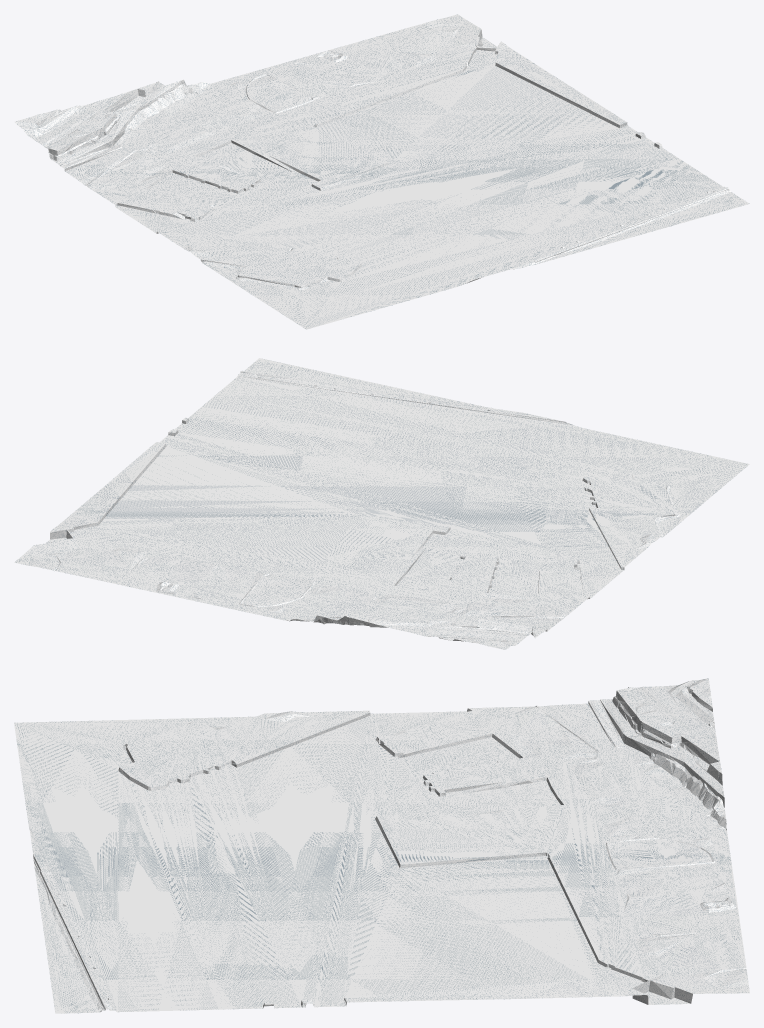
3 views of the same model, one above another, from view 1: azimuth 30°, elevation 25°; view 2: azimuth 150°, elevation 25°; view 3: azimuth 270°, elevation 25° (orthographic). The views are drawn at different scales.
Visible parts, largest first — view 1: skpDDD8; view 2: skpDDD8; view 3: skpDDD8.
Part boxes in pixels (x1=…): skpDDD8: x1=14, y1=14, x2=749, y2=329; skpDDD8: x1=14, y1=358, x2=749, y2=649; skpDDD8: x1=14, y1=678, x2=749, y2=1013.
Size of the model in its own units: 33435 by 33393 by 1569.
